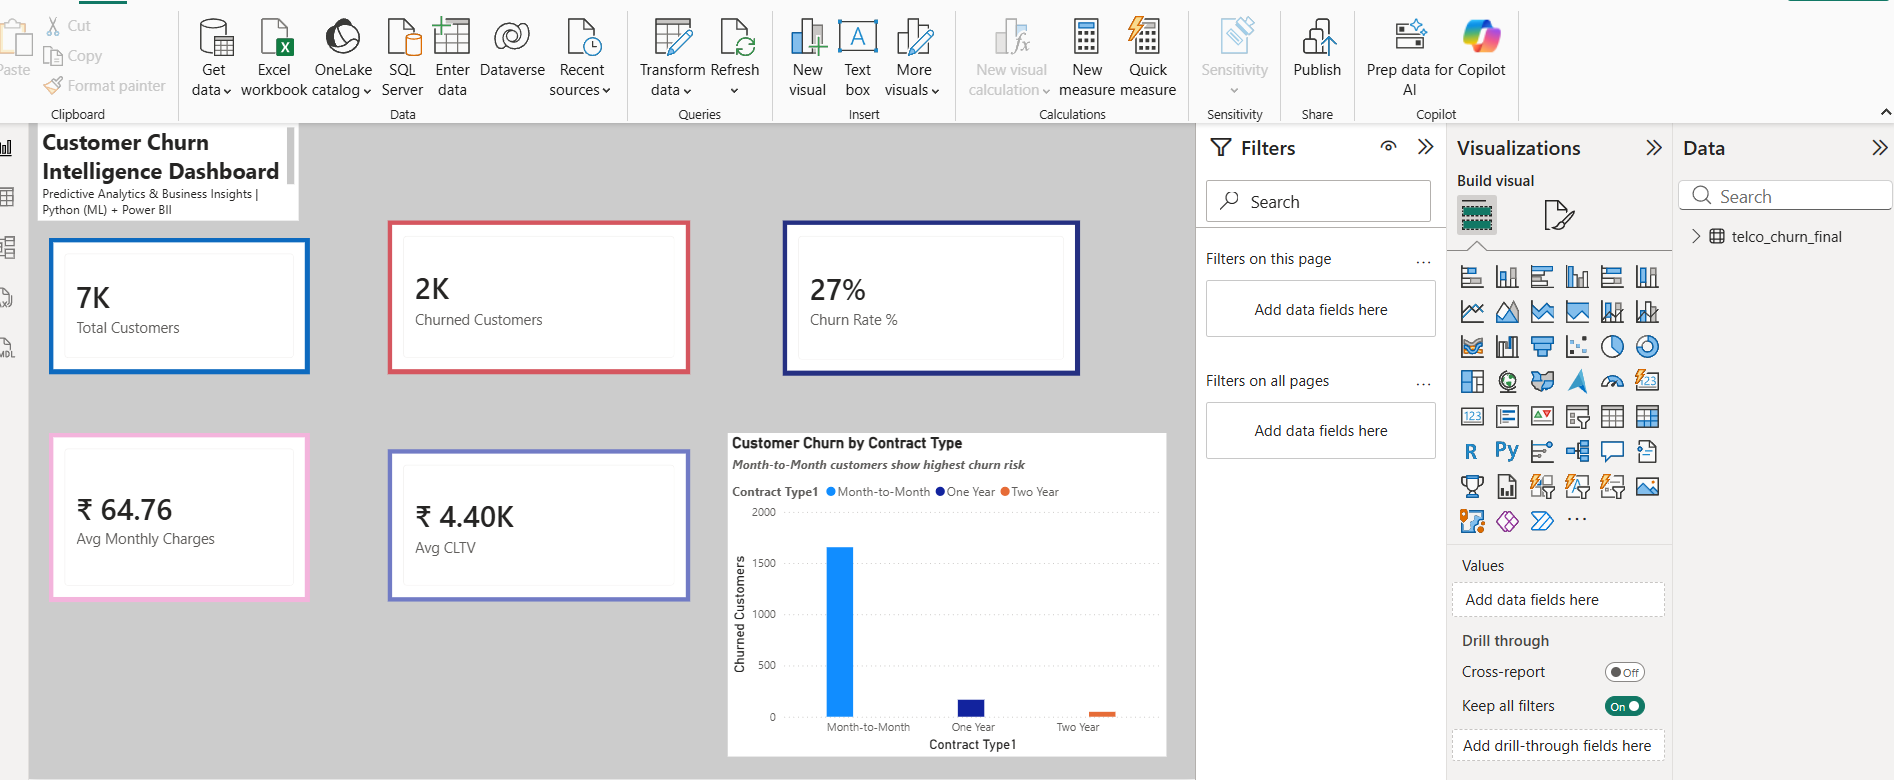

The dashboard page shown, as its layout file describes it:
{"tool":"powerbi","page":{"name":"Page 1","canvas":[1280,720],"ordinal":0},"visuals":[{"type":"textbox","box":[9.6,0,286.8,107],"z":0},{"type":"cardVisual","fields":{"Data":["telco_churn_final.Total Customers"]},"box":[22,126.2,286.8,149.6],"z":1000},{"type":"cardVisual","fields":{"Data":["telco_churn_final.Churned Customers"]},"box":[393.8,107,332.1,168.8],"z":2000},{"type":"cardVisual","fields":{"Data":["telco_churn_final.Churn Rate %"]},"box":[827.4,107,326.6,170.2],"z":3000},{"type":"cardVisual","fields":{"Data":["telco_churn_final.Avg Monthly Charges"]},"box":[22,340.3,286.8,185.2],"z":4000},{"type":"cardVisual","fields":{"Data":["telco_churn_final.Avg CLTV"]},"box":[393.8,358.1,332.1,167.4],"z":5000},{"type":"clusteredColumnChart","title":"Customer Churn by Contract Type","fields":{"Category":["telco_churn_final.Contract Type1"],"Y":["telco_churn_final.Churned Customers"],"Series":["telco_churn_final.Contract Type1"]},"box":[767.1,340.3,481.6,355.4],"z":5001}]}

Visuals, with their boxes on the page's 1280x720 design canvas (x1, y1, x2, y2). These are canvas units, not pixel positions in the 1894x780 screenshot, which may show the page scaled, cropped or inside an application window:
textbox: [10, 0, 296, 107]
cardVisual - telco_churn_final.Total Customers: [22, 126, 309, 276]
cardVisual - telco_churn_final.Churned Customers: [394, 107, 726, 276]
cardVisual - telco_churn_final.Churn Rate %: [827, 107, 1154, 277]
cardVisual - telco_churn_final.Avg Monthly Charges: [22, 340, 309, 526]
cardVisual - telco_churn_final.Avg CLTV: [394, 358, 726, 526]
"Customer Churn by Contract Type" clusteredColumnChart: [767, 340, 1249, 696]
